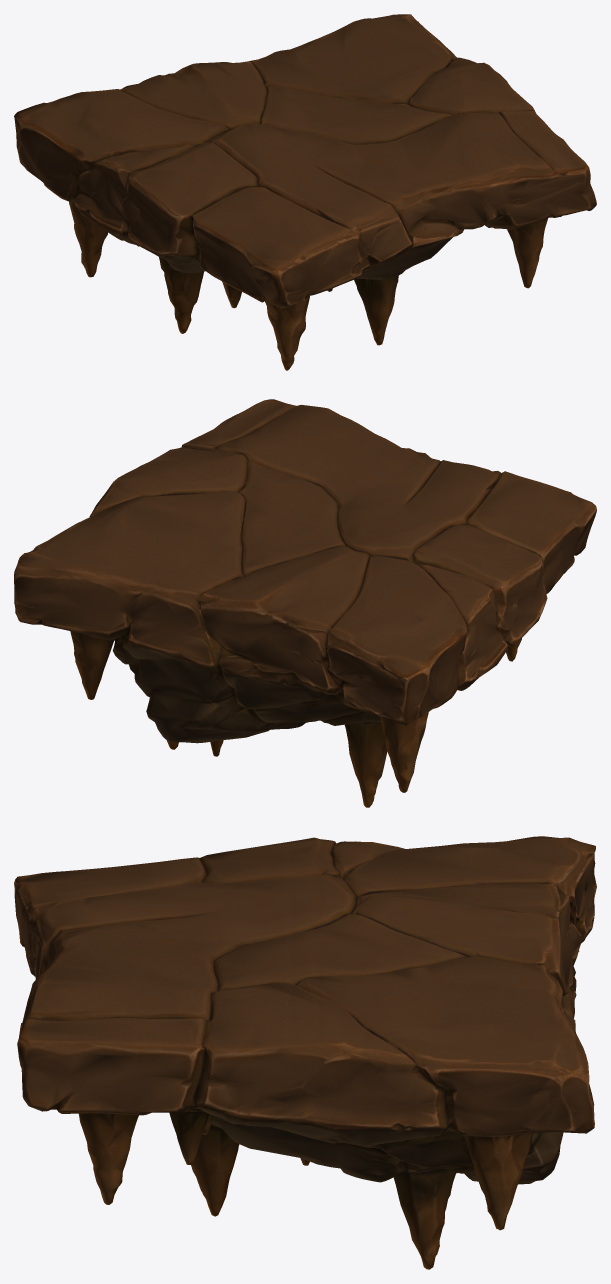
File: roca_puntiaguda.glb
3 views of the same model, one above another, from view 1: azimuth 30°, elevation 25°; view 2: azimuth 150°, elevation 25°; view 3: azimuth 270°, elevation 25° (orthographic). The views are drawn at different scales.
Parts seen in each view (by area): view 1: roca_puntiaguda; view 2: roca_puntiaguda; view 3: roca_puntiaguda.
Part boxes in pixels (<box>): roca_puntiaguda: <box>14,14,596,370</box>; roca_puntiaguda: <box>14,399,596,807</box>; roca_puntiaguda: <box>14,836,596,1269</box>.
Size of what is drawn, in the model's own units: 2.66 by 1.5 by 2.61.
Materials: 1 (1 with a texture image).
